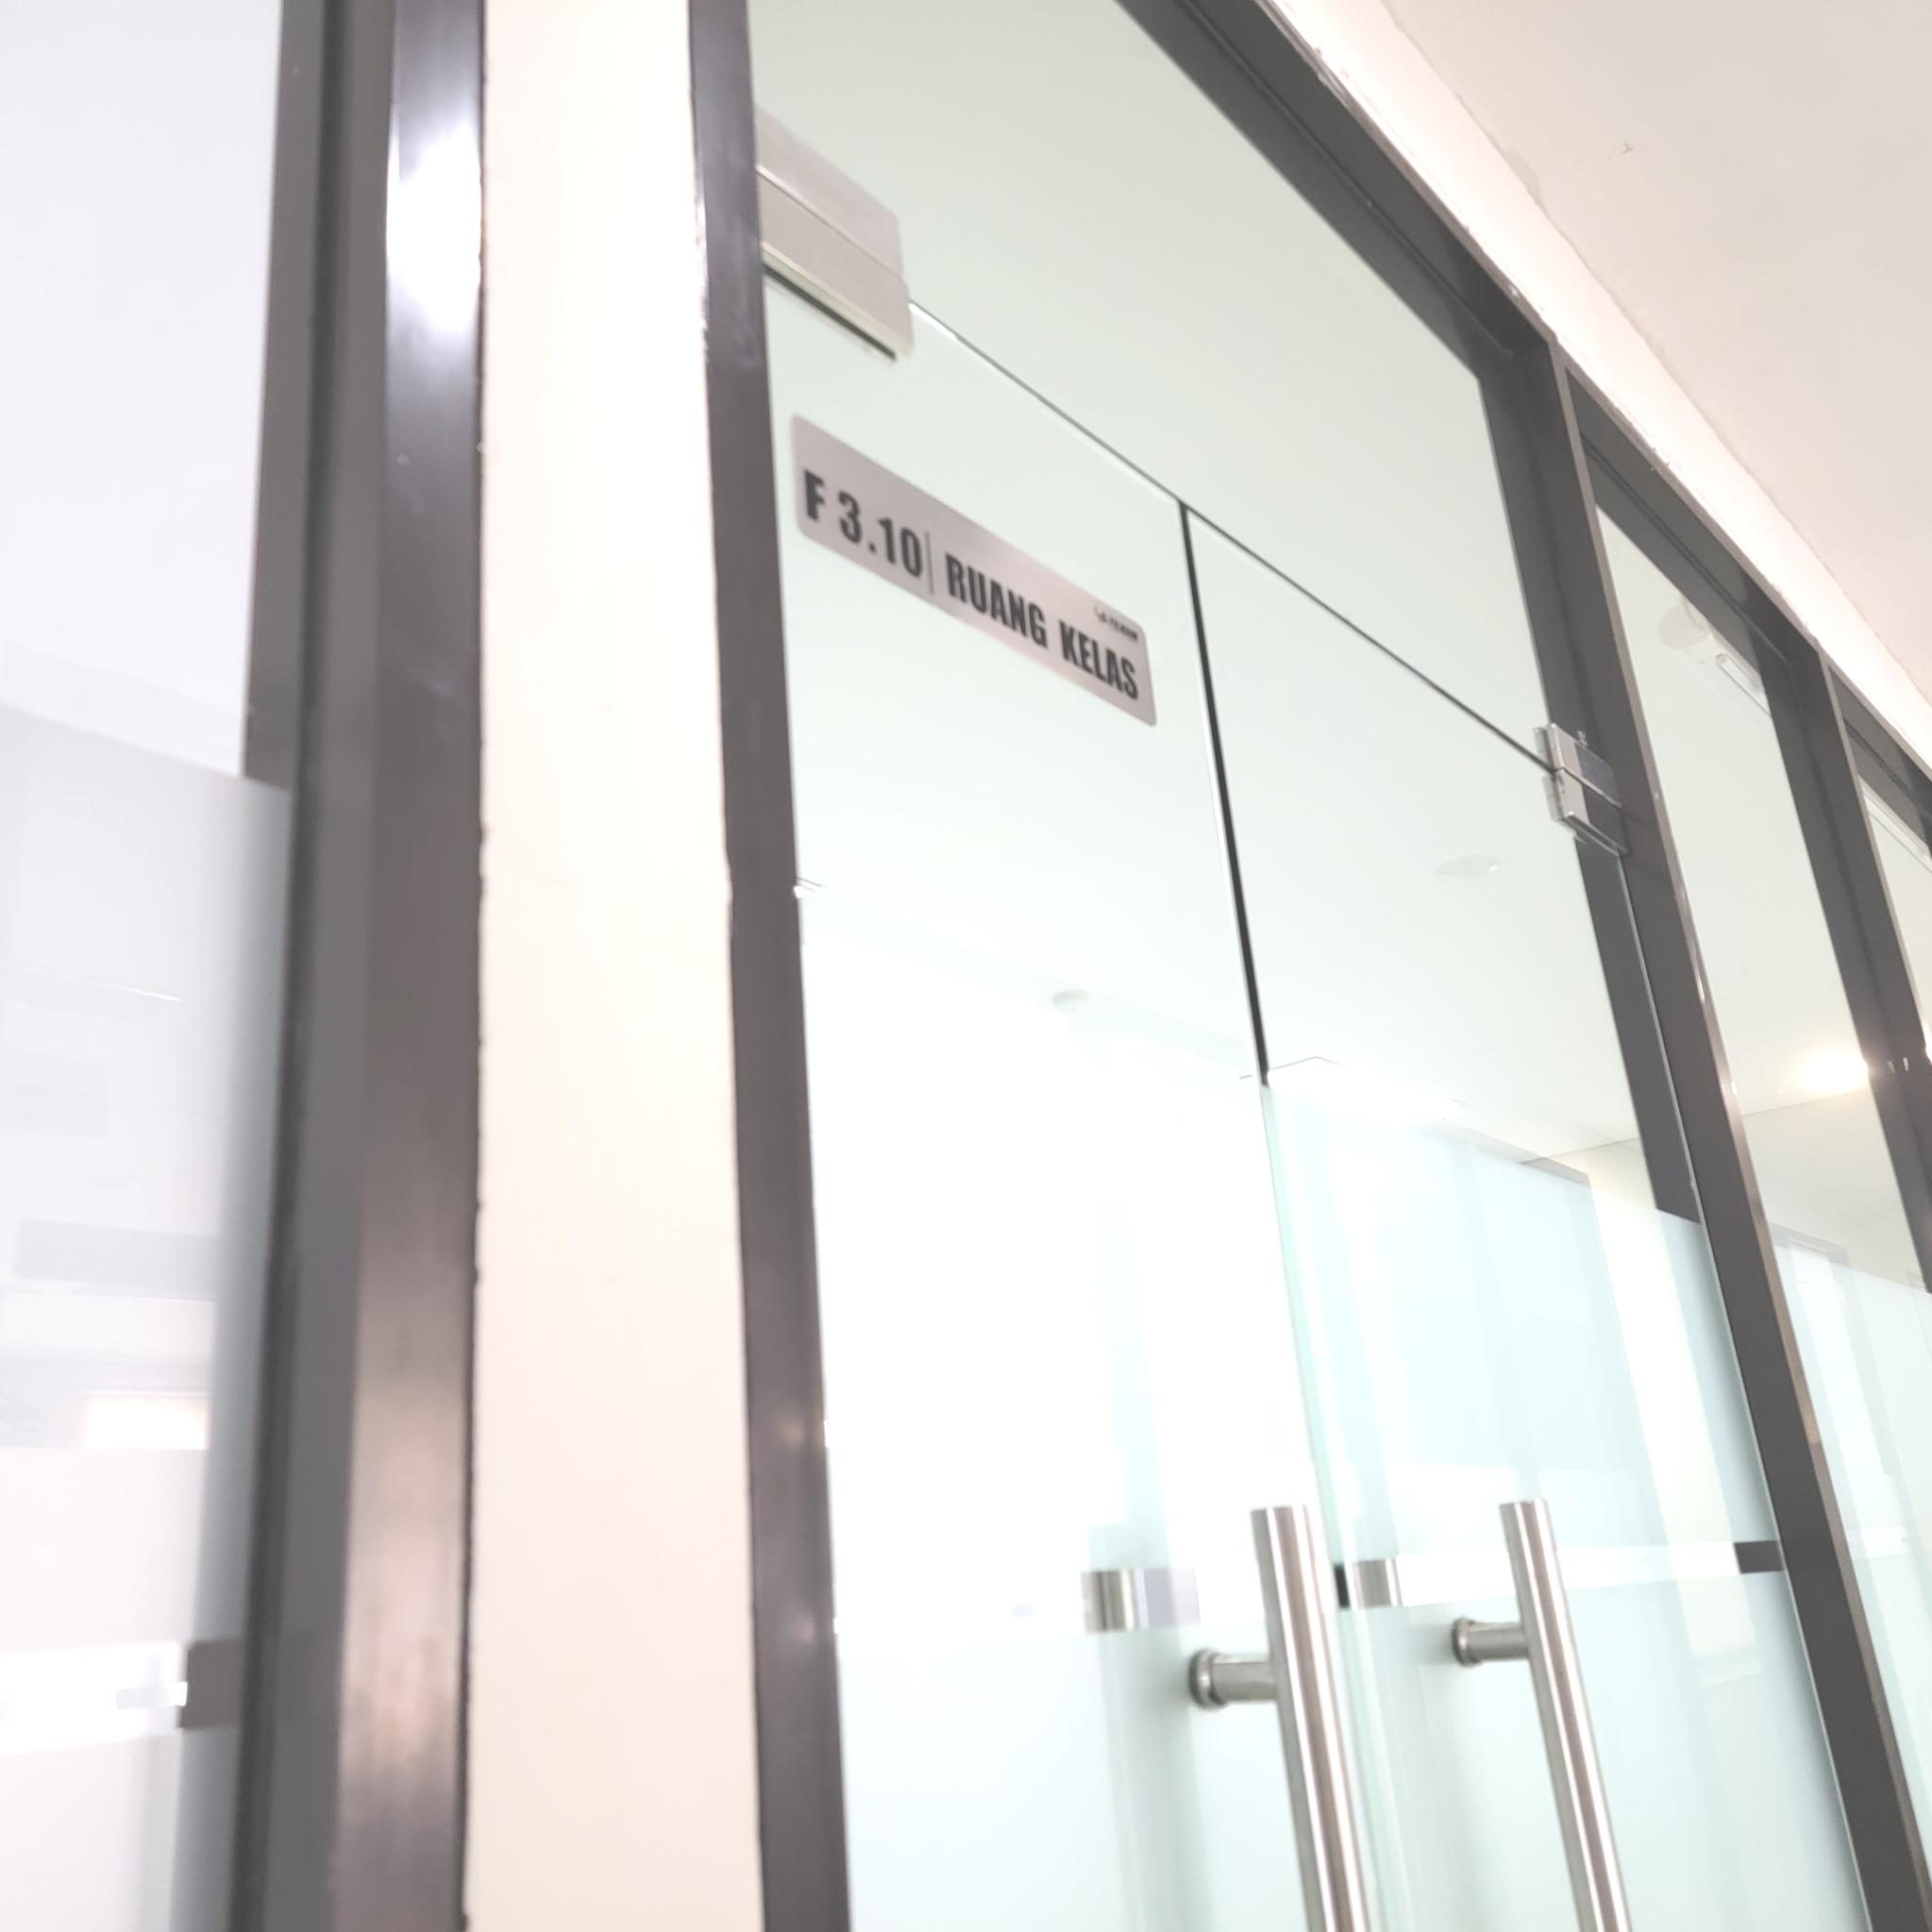plate: (793, 410, 1155, 732)
